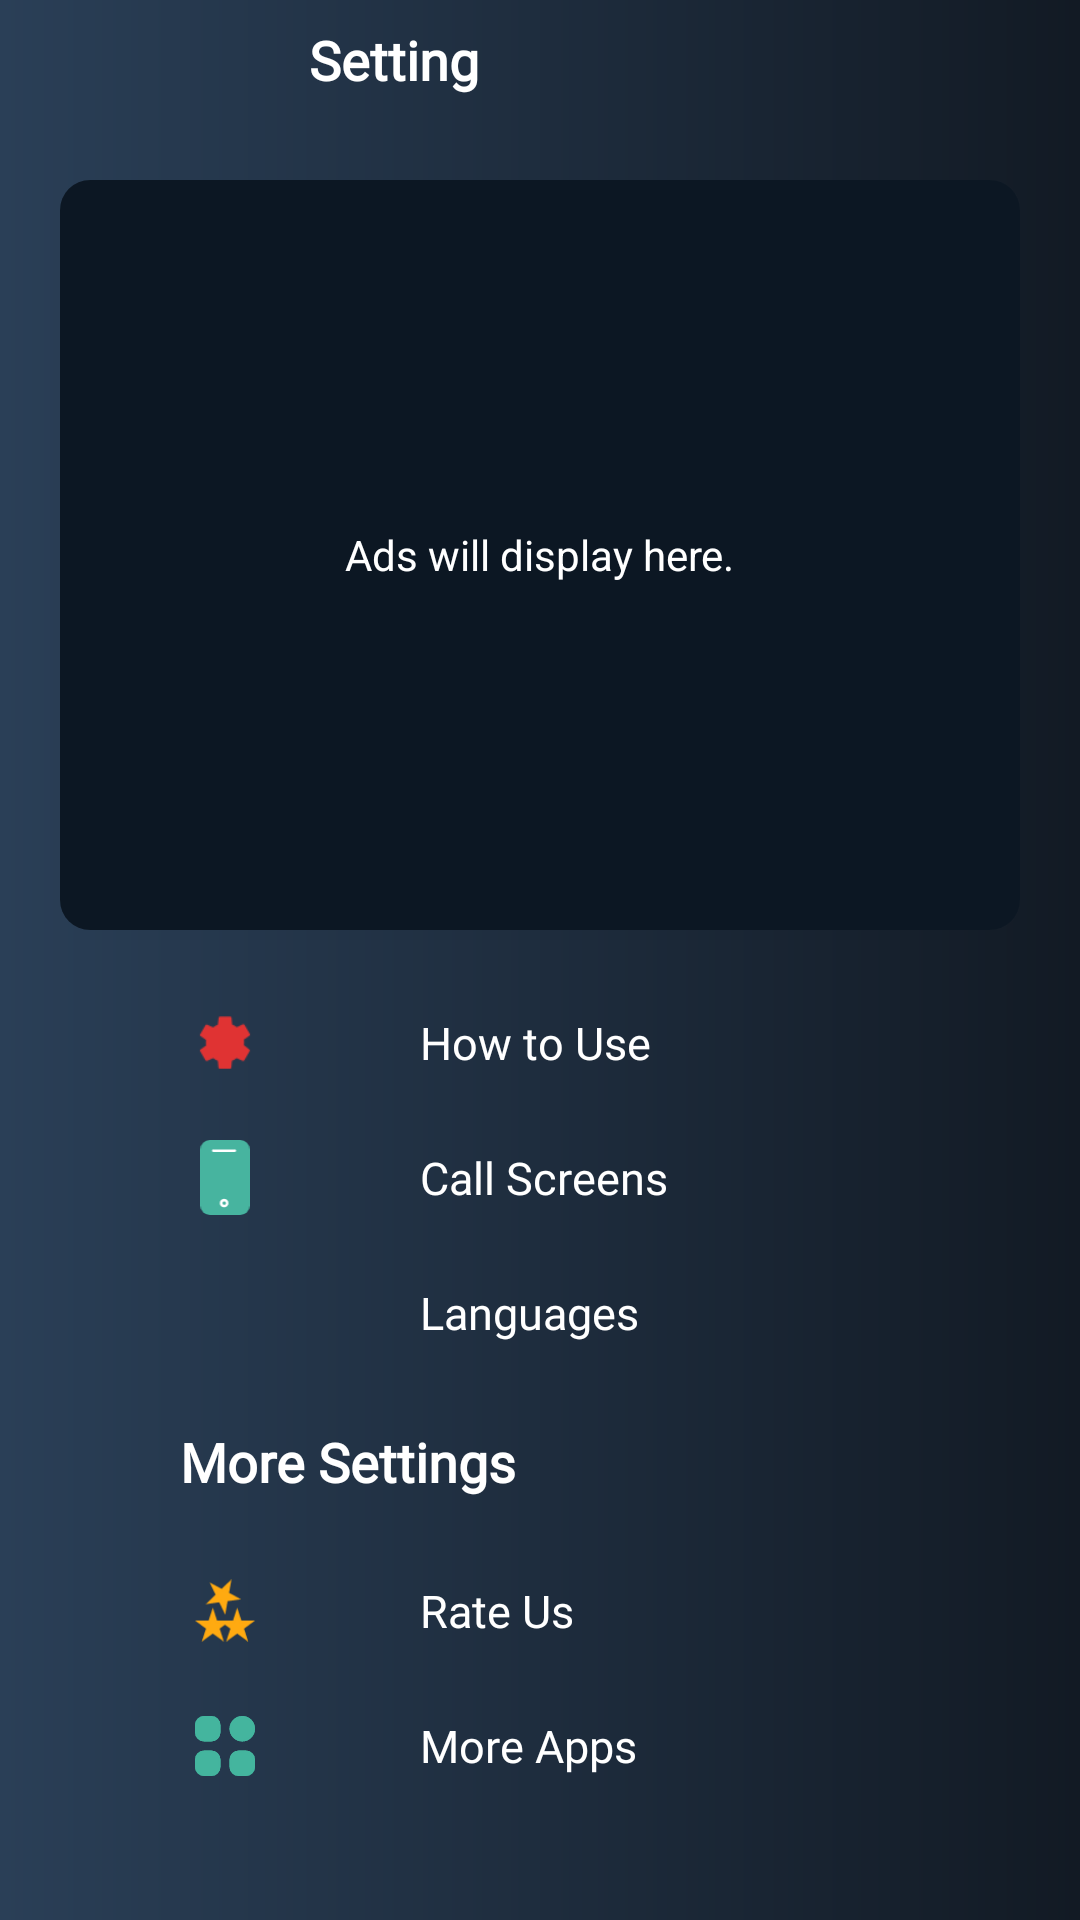

Where to tap for icons on this 1080×1920 app screen, as (x=x, y=y):
mobile: (x=225, y=1177)
